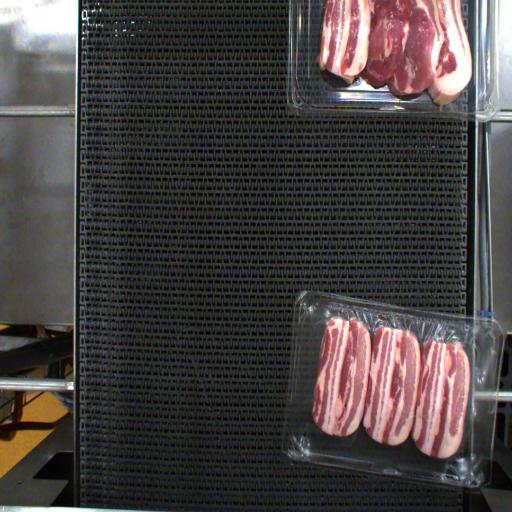unsealed: (293, 297, 486, 476)
